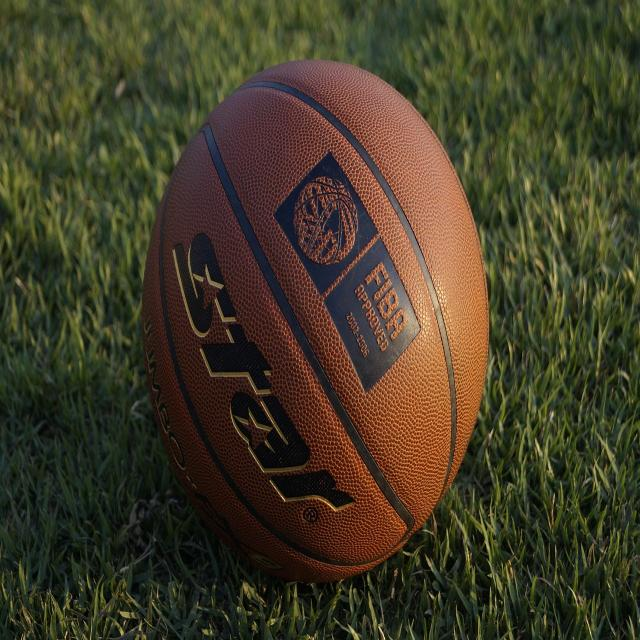Basketball: (145, 59, 488, 583)
